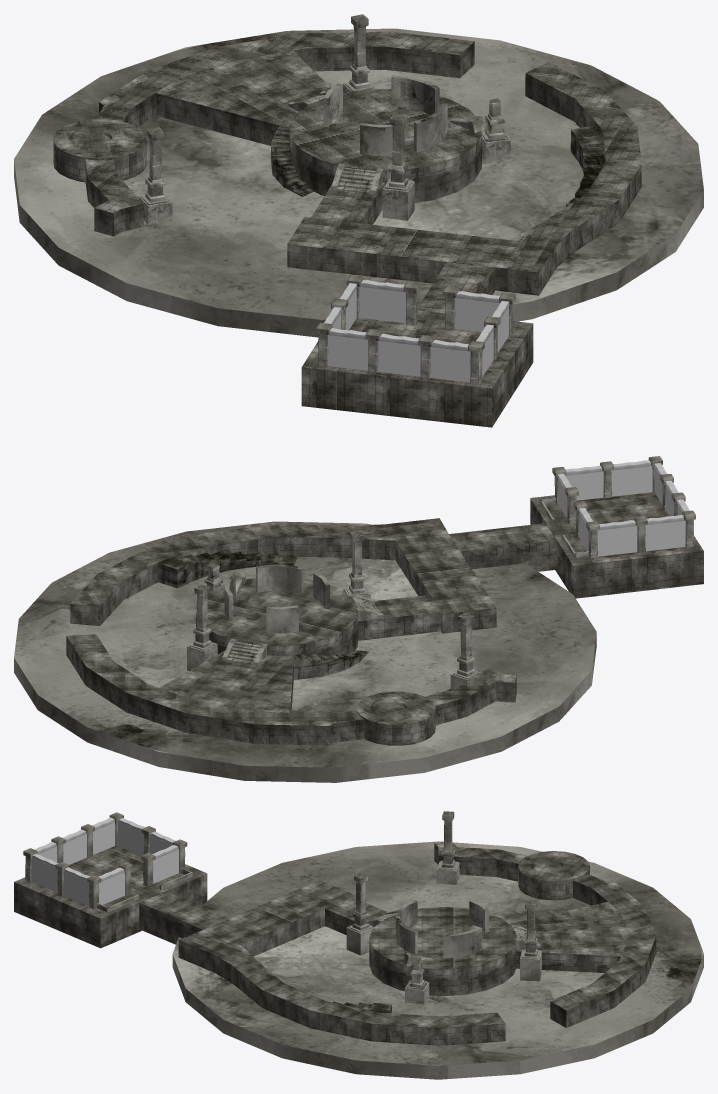
The model's file is Level12.fbx.
The picture shows the model from 3 angles, top to bottom: view 1: azimuth 30°, elevation 25°; view 2: azimuth 150°, elevation 25°; view 3: azimuth 270°, elevation 25°; orthographic projection. The views are drawn at different scales.
Visible parts, largest first — view 1: Floor_Base, Top_Base, Base1, Bottom_Base1, Bridge_Thing2, Round_Base, Walls, Full_Pillar (×3), Bridge_Thing, Bridge_Thing1, Wall5, Round_Stairs1 (+8 smaller); view 2: Floor_Base, Top_Base, Base1, Bottom_Base1, Bridge_Thing2, Bridge_Thing, Round_Base, Walls, Bridge_Thing1, Full_Pillar (×3), Round_Stairs1, Round_Stairs (+5 smaller); view 3: Floor_Base, Top_Base, Bottom_Base1, Base1, Bridge_Thing2, Bridge_Thing, Round_Base, Walls, Full_Pillar (×3), pCube4 (×2), Bridge_Thing1, Wall4 (+7 smaller).
Boxes of the visible parts, bbox=[...] form: Floor_Base: bbox=[14, 28, 703, 337]; Top_Base: bbox=[85, 31, 641, 295]; Base1: bbox=[301, 310, 533, 427]; Bottom_Base1: bbox=[289, 89, 481, 202]; Bridge_Thing2: bbox=[155, 51, 330, 145]; Round_Base: bbox=[53, 119, 146, 182]; Walls: bbox=[323, 74, 447, 155]; Full_Pillar (×3): bbox=[140, 14, 412, 205]; Bridge_Thing: bbox=[418, 262, 495, 313]; Bridge_Thing1: bbox=[311, 182, 385, 224]; Wall5: bbox=[359, 280, 406, 323]; Round_Stairs1: bbox=[555, 125, 605, 213]; Floor_Base: bbox=[14, 521, 596, 782]; Top_Base: bbox=[66, 518, 516, 745]; Base1: bbox=[530, 492, 703, 598]; Bottom_Base1: bbox=[196, 578, 358, 655]; Bridge_Thing2: bbox=[159, 651, 294, 712]; Bridge_Thing: bbox=[449, 523, 556, 571]; Round_Base: bbox=[357, 691, 435, 745]; Walls: bbox=[224, 564, 329, 633]; Bridge_Thing1: bbox=[358, 595, 441, 640]; Full_Pillar (×3): bbox=[189, 531, 479, 679]; Round_Stairs1: bbox=[158, 551, 297, 588]; Round_Stairs: bbox=[294, 650, 368, 679]; Floor_Base: bbox=[172, 841, 703, 1079]; Top_Base: bbox=[178, 841, 656, 1045]; Bottom_Base1: bbox=[369, 907, 517, 996]; Base1: bbox=[14, 846, 207, 948]; Bridge_Thing2: bbox=[509, 901, 628, 972]; Bridge_Thing: bbox=[139, 891, 229, 944]; Round_Base: bbox=[518, 851, 589, 900]; Walls: bbox=[395, 900, 488, 958]; Full_Pillar (×3): bbox=[349, 811, 540, 958]; pCube4 (×2): bbox=[346, 927, 541, 981]; Bridge_Thing1: bbox=[325, 897, 385, 934]; Wall4: bbox=[31, 853, 58, 892].
Bounding box in the file's own units: 94.39 × 20.35 × 123.
